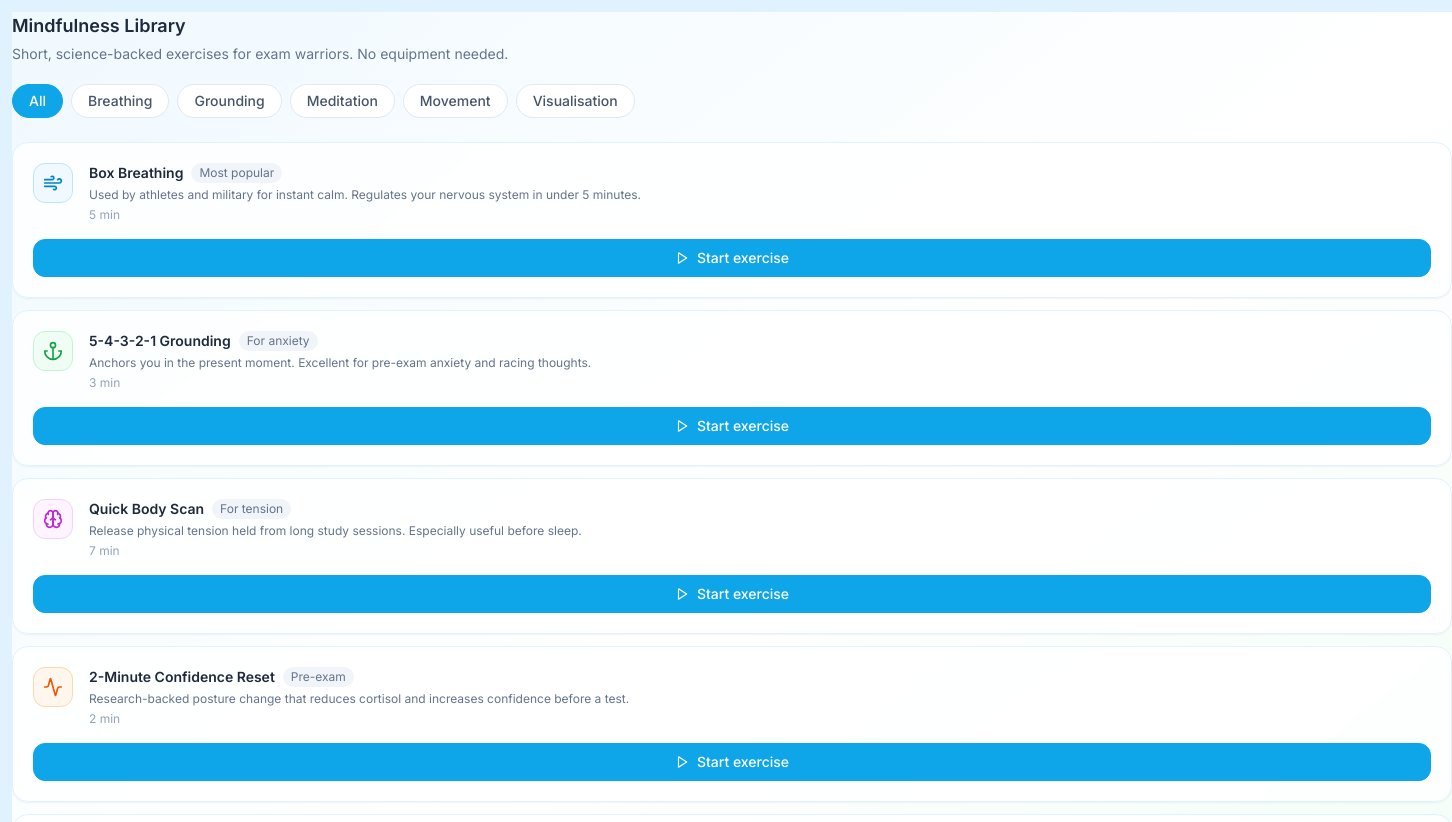
Test case: MindfulnessView › collapses instructions when Close is clicked
What coordinates should you click on to do the following:
click the button "Start exercise" below "Box Breathing"
I would click on:
 (732, 258)
Its box is [33,239,1431,277].
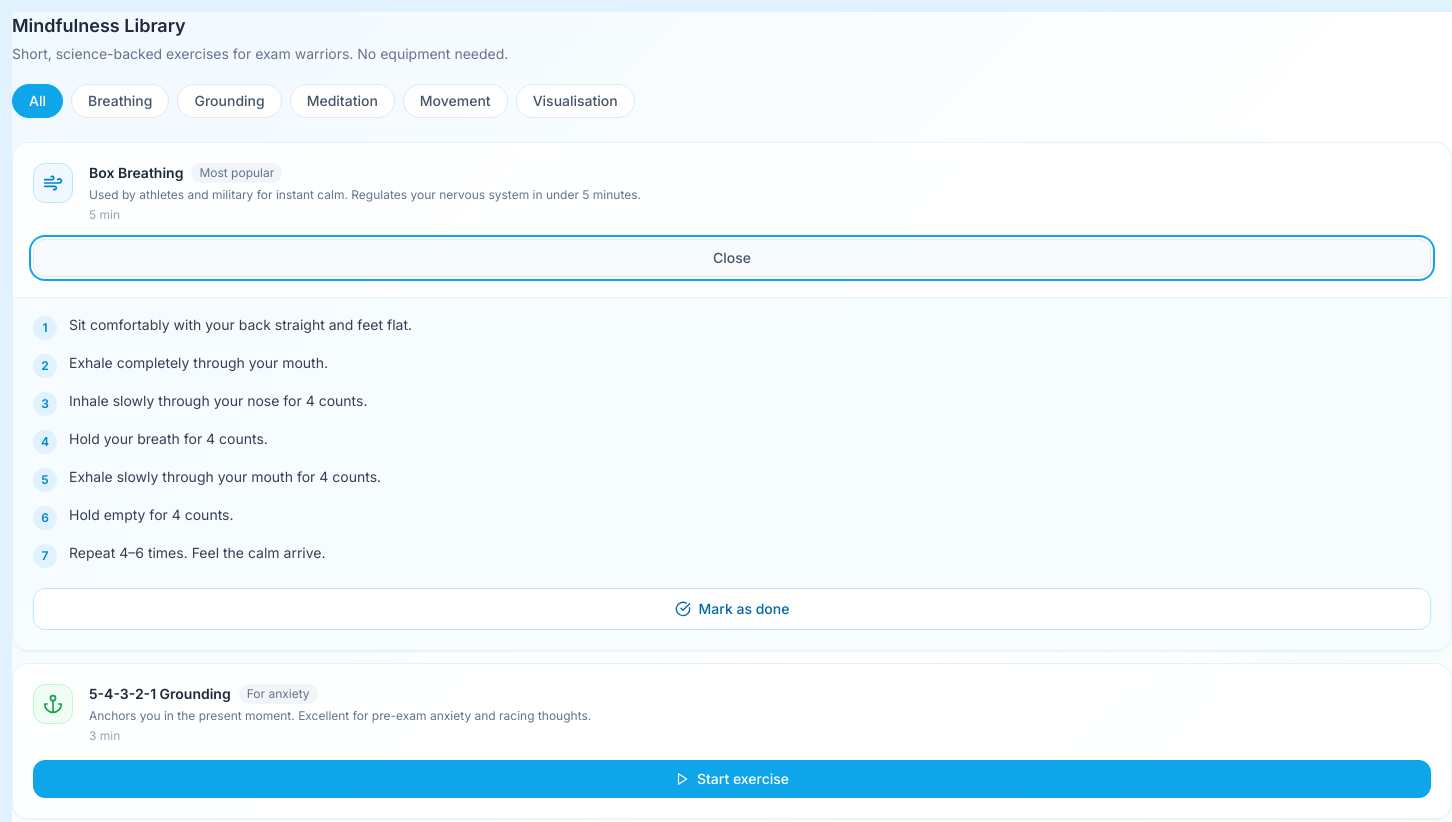
What coordinates should you click on to do the following:
click the button "Close"
I would click on:
 (732, 258)
Its box is [33,239,1431,277].
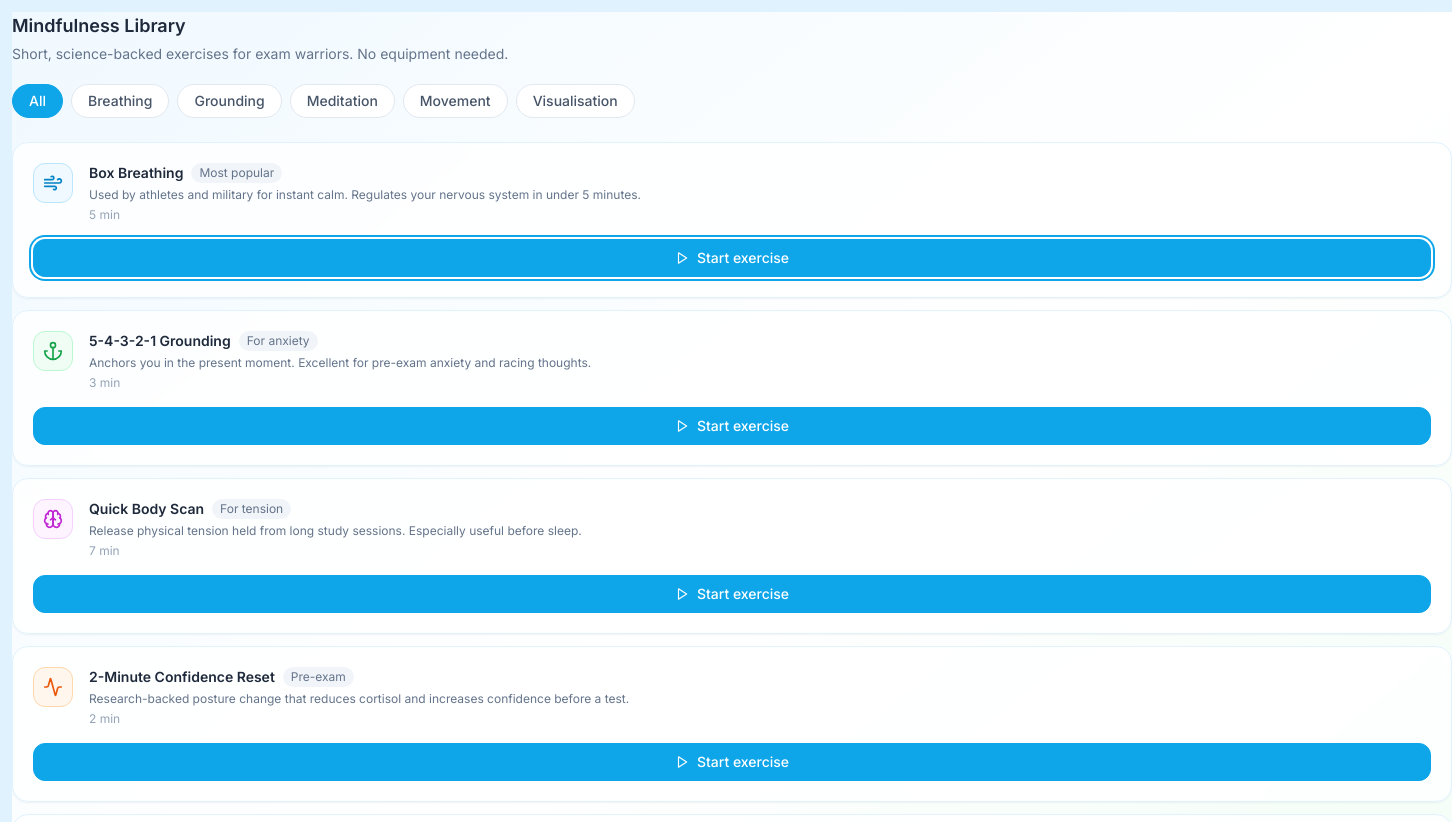
Expected: the text "Sit comfortably with your back straight" is gone
